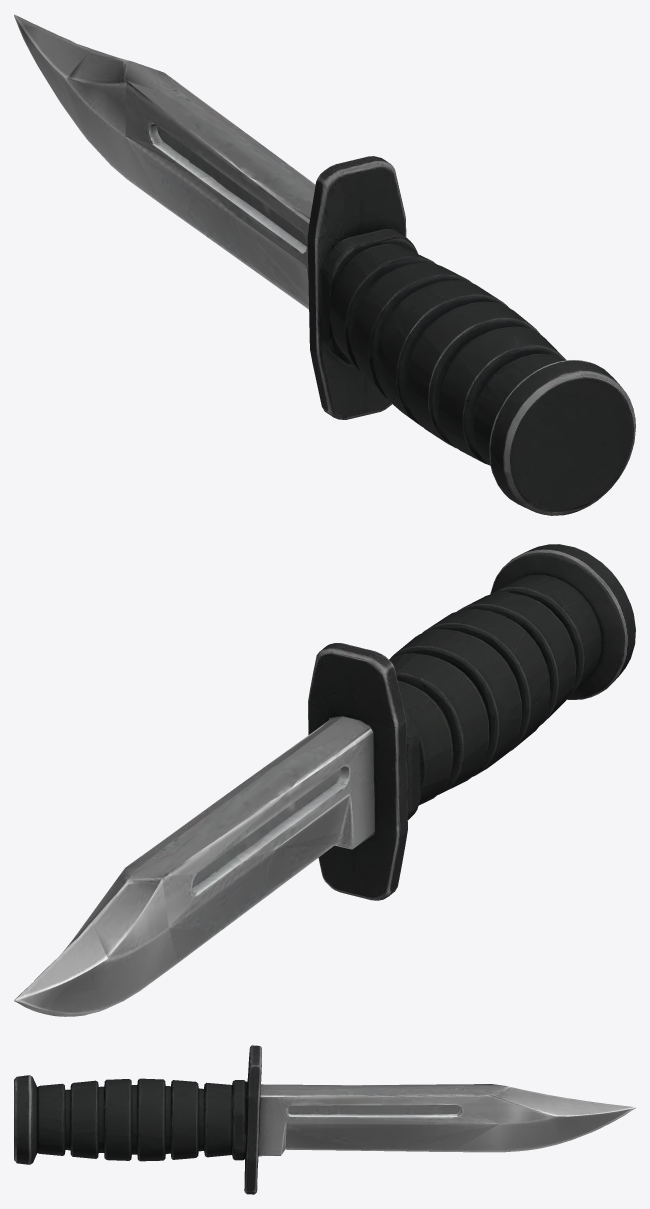
Rendered from messer.glb.
The picture shows the model from 3 angles, top to bottom: view 1: azimuth 30°, elevation 25°; view 2: azimuth 150°, elevation 25°; view 3: azimuth 270°, elevation 25°; orthographic projection. The views are drawn at different scales.
Parts seen in each view (by area): view 1: waffe_messer; view 2: waffe_messer; view 3: waffe_messer.
Part boxes in pixels (<box>): waffe_messer: <box>14,14,635,515</box>; waffe_messer: <box>14,544,635,1016</box>; waffe_messer: <box>14,1045,635,1194</box>.
Size of the model in its own units: 0.0428 by 0.0735 by 0.3.
1 material, 1 textured.
